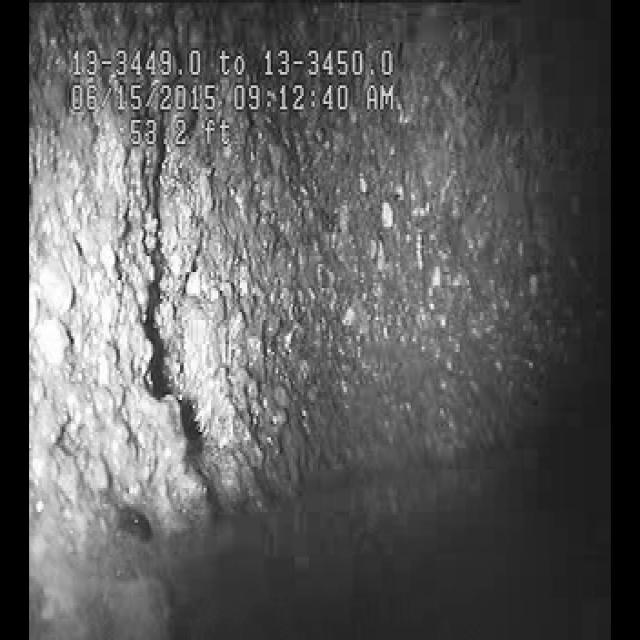Fracture: (129, 165, 252, 535)
